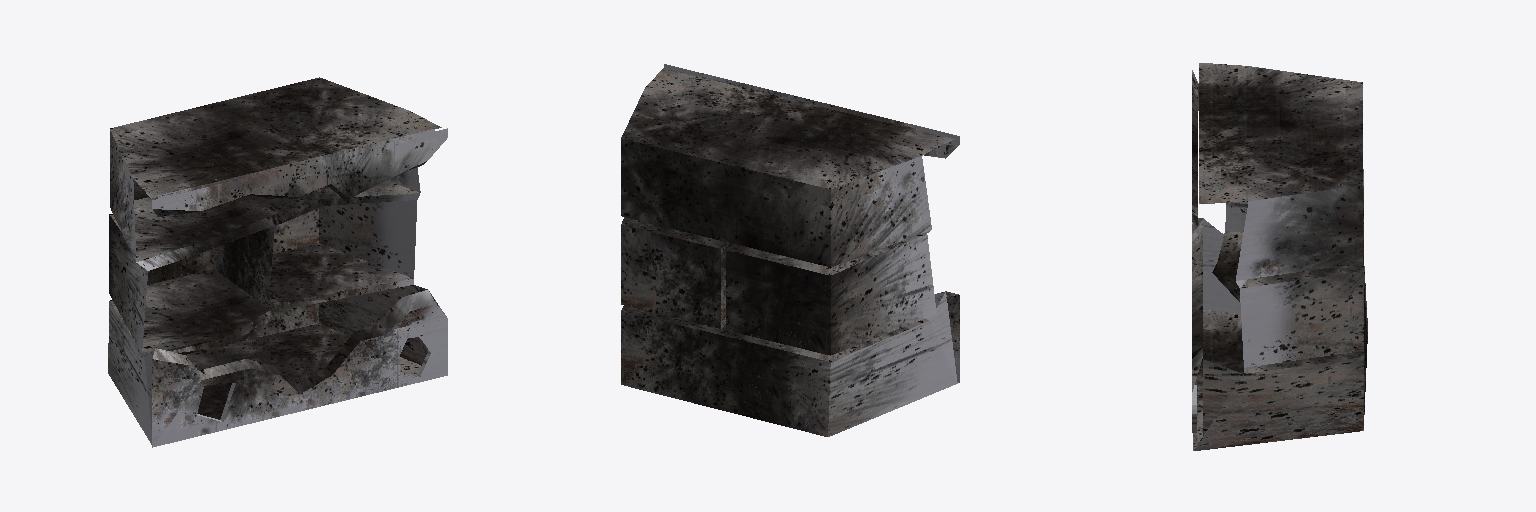
3 renders of one model, left to right at view 1: azimuth 30°, elevation 25°; view 2: azimuth 150°, elevation 25°; view 3: azimuth 270°, elevation 25°, orthographic.
Visible parts, largest first — view 1: polySurface186; view 2: polySurface186; view 3: polySurface186.
Part boxes in pixels (x1,y1,x2,y2): polySurface186: (108,77,447,447); polySurface186: (621,64,959,436); polySurface186: (1192,63,1367,450).
Size of the model in its own units: 4.56 by 3.65 by 2.36.
Materials: 1 (1 with a texture image).